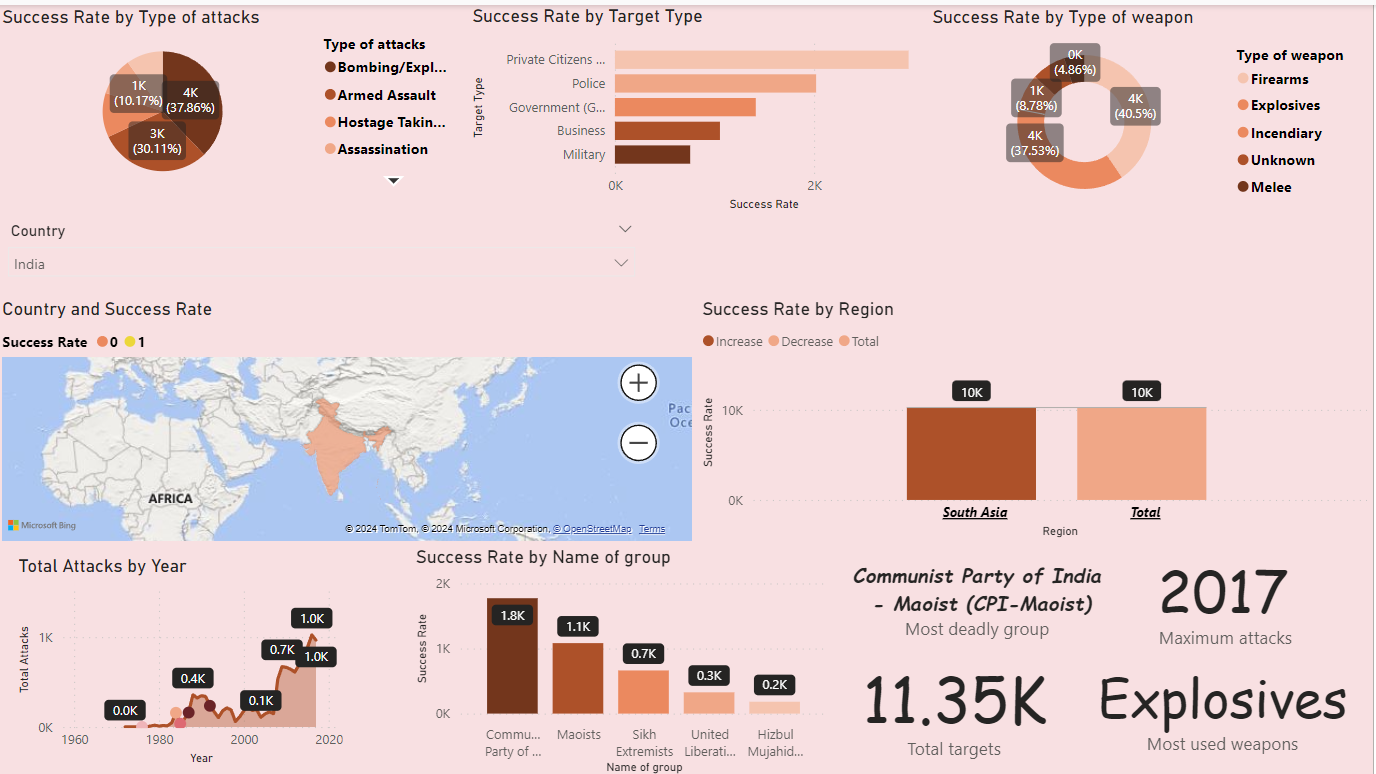

Layout of this report page (visuals, bound fields, positions):
{"tool":"powerbi","page":{"name":"Page 1","canvas":[1280,720],"ordinal":0},"visuals":[{"type":"pieChart","fields":{"Category":["Global terrorism final data set.Type of attacks"],"Y":["Sum(Global terrorism final data set.Success Rate)"]},"box":[0,1.7,436.7,175],"z":0},{"type":"barChart","fields":{"Category":["Global terrorism final data set.Target Type"],"Y":["Sum(Global terrorism final data set.Success Rate)"]},"box":[436.8,0,427.6,196.1],"z":1000},{"type":"donutChart","fields":{"Category":["Global terrorism final data set.Type of weapon"],"Y":["Sum(Global terrorism final data set.Success Rate)"]},"box":[865,1.7,415,195],"z":2000},{"type":"filledMap","fields":{"Category":["Global terrorism final data set.Country"],"Series":["Global terrorism final data set.Success Rate"]},"box":[0,271.7,651.7,231.7],"z":3000},{"type":"waterfallChart","fields":{"Category":["Global terrorism final data set.Region"],"Y":["Sum(Global terrorism final data set.Success Rate)"]},"box":[651.7,271.7,628.3,228.3],"z":4000},{"type":"lineStackedColumnComboChart","fields":{"Category":["Global terrorism final data set.Name of group"],"Y":["Sum(Global terrorism final data set.Success Rate)"]},"box":[385,503.3,393.3,216.7],"z":5000},{"type":"areaChart","fields":{"Category":["Global terrorism final data set.Year"],"Y":["CountNonNull(Global terrorism final data set.Year)"]},"box":[15,511.7,311.7,200],"z":6000},{"type":"slicer","fields":{"Values":["Global terrorism final data set.Country"]},"box":[0,196.7,603.3,75],"z":7000},{"type":"card","fields":{"Values":["Min(Global terrorism final data set.Name of group)"]},"box":[778.3,492.8,268.1,118.8],"z":8000},{"type":"card","fields":{"Values":["CountNonNull(Global terrorism final data set.Target Type)"]},"box":[786.7,601.7,206.7,106.7],"z":9000},{"type":"card","fields":{"Values":["Max(Global terrorism final data set.Year)"]},"box":[1046.7,503.3,188.3,100],"z":10000},{"type":"card","fields":{"Values":["Min(Global terrorism final data set.Type of weapon)"]},"box":[1001.7,588.3,278.3,131.7],"z":11000}]}

Visuals, with their boxes in screenshot pixels (x1, y1, x2, y2), scaled from the page's 1280x720 canvas onto the 1376x774 screenshot:
pieChart - Global terrorism final data set.Type of attacks x Sum(Global terrorism final data set.Success Rate): l=0, t=2, r=469, b=190
barChart - Global terrorism final data set.Target Type x Sum(Global terrorism final data set.Success Rate): l=470, t=0, r=929, b=211
donutChart - Global terrorism final data set.Type of weapon x Sum(Global terrorism final data set.Success Rate): l=930, t=2, r=1375, b=211
filledMap - Global terrorism final data set.Country x Global terrorism final data set.Success Rate: l=0, t=292, r=701, b=541
waterfallChart - Global terrorism final data set.Region x Sum(Global terrorism final data set.Success Rate): l=701, t=292, r=1375, b=538
lineStackedColumnComboChart - Global terrorism final data set.Name of group x Sum(Global terrorism final data set.Success Rate): l=414, t=541, r=837, b=773
areaChart - Global terrorism final data set.Year x CountNonNull(Global terrorism final data set.Year): l=16, t=550, r=351, b=765
slicer - Global terrorism final data set.Country: l=0, t=211, r=649, b=292
card - Min(Global terrorism final data set.Name of group): l=837, t=530, r=1125, b=657
card - CountNonNull(Global terrorism final data set.Target Type): l=846, t=647, r=1068, b=762
card - Max(Global terrorism final data set.Year): l=1125, t=541, r=1328, b=649
card - Min(Global terrorism final data set.Type of weapon): l=1077, t=632, r=1375, b=773
